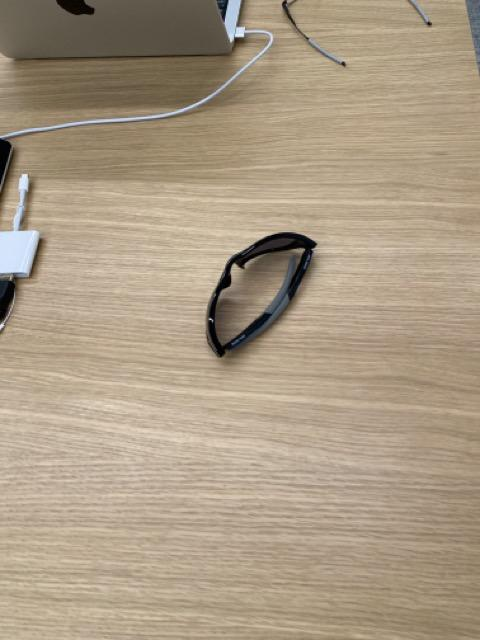Sunglasses: (206, 231, 318, 359)
